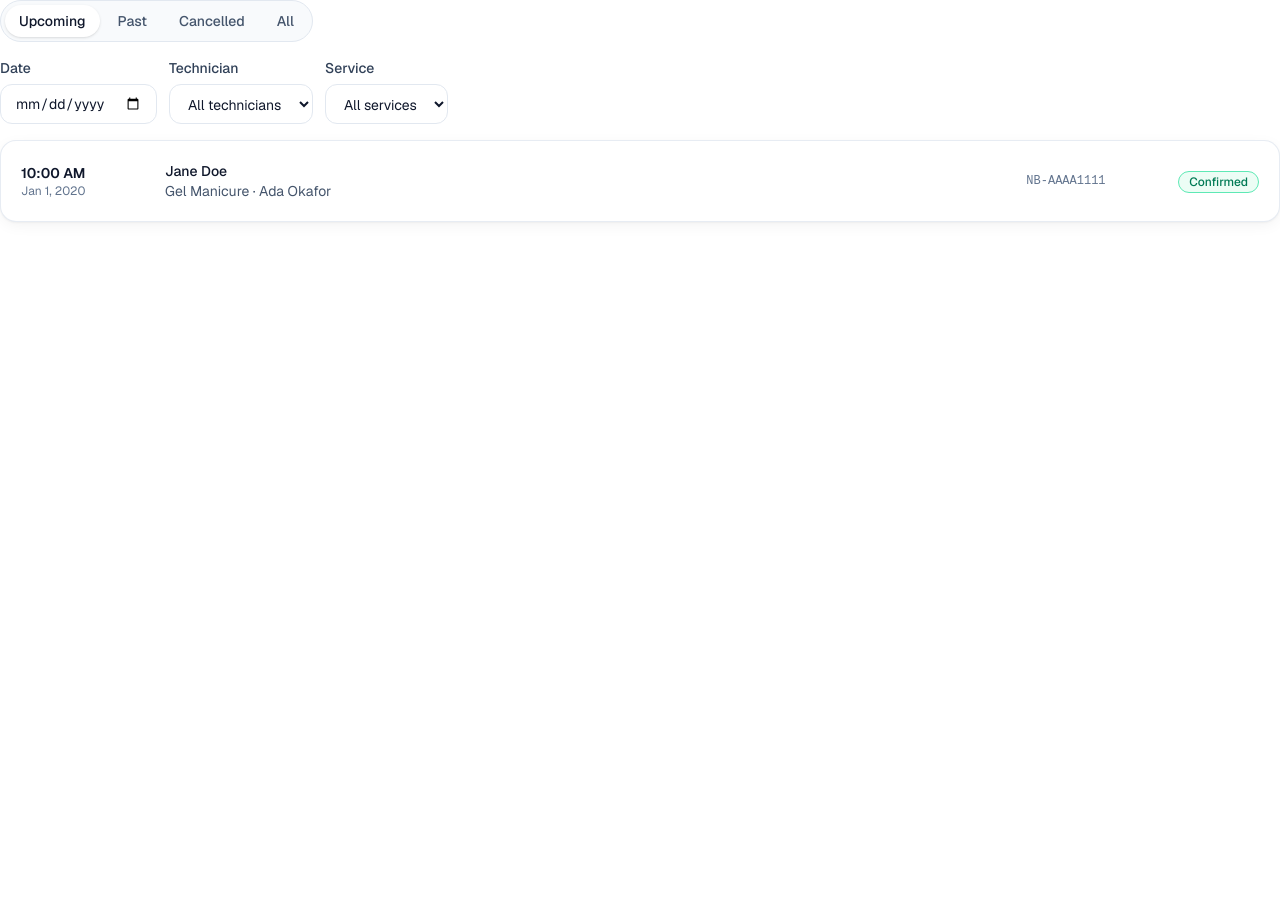
Test: S13-BE lifecycle — No-show › CONFIRMED → Mark no-show → confirm → NO_SHOW shown → actions removed
Expected: the text "Jane Doe" is shown, [165,162,227,180]
Click the button with aria-label "view booking details for jane doe": (53, 173) [21,161,1154,201]
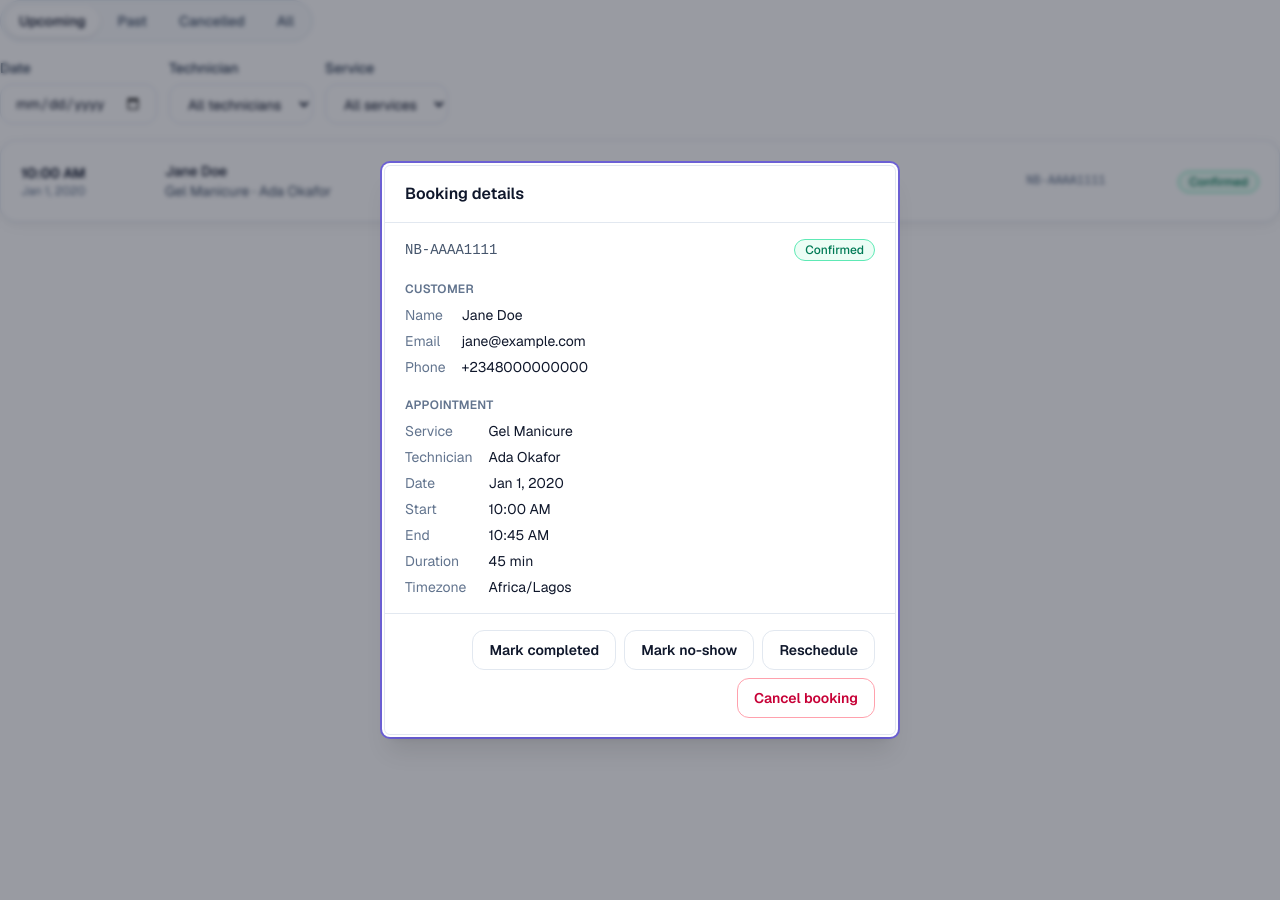
Click the button "Mark no-show": (689, 650) [624,630,754,670]
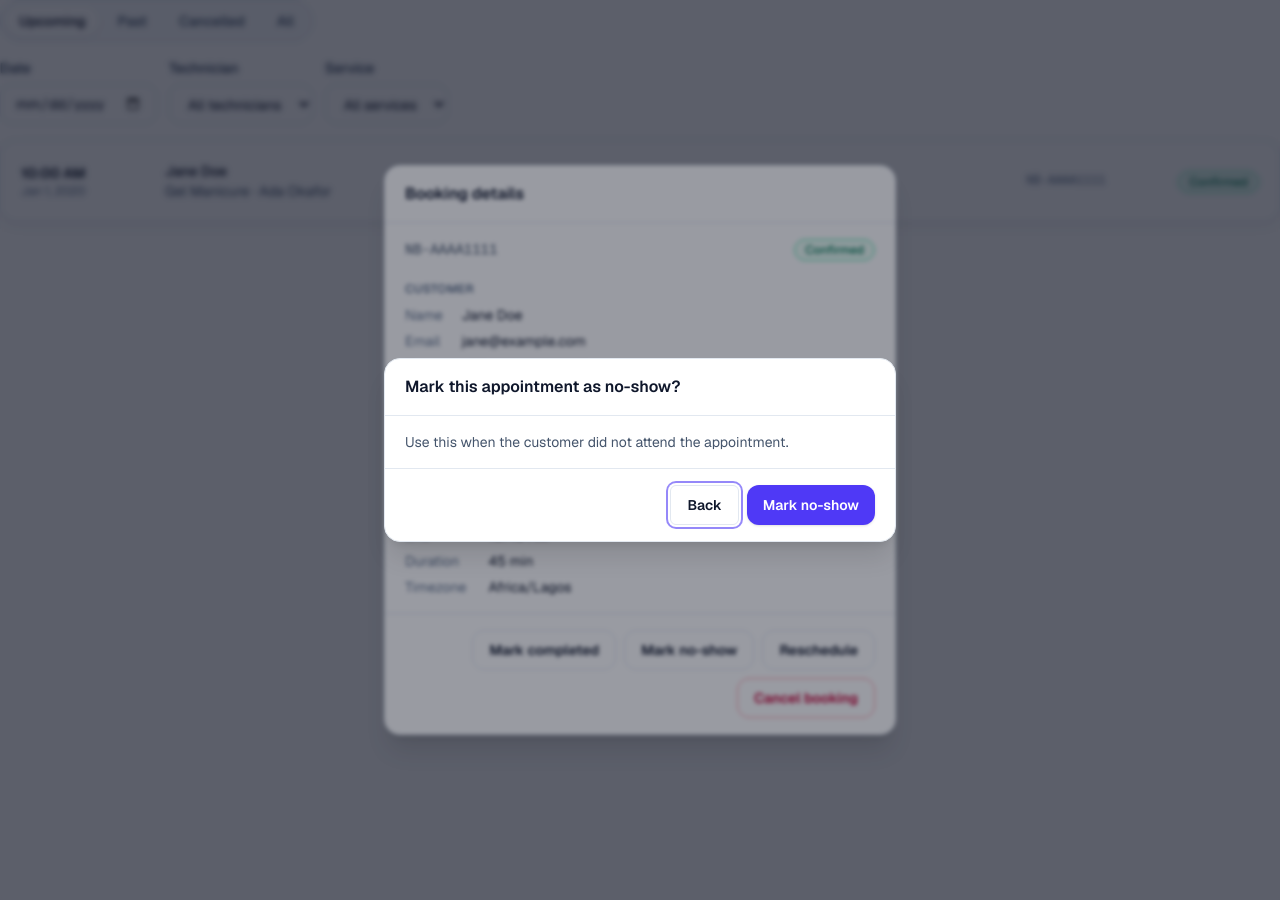
Click the button "Mark no-show": (811, 505) [747,485,875,525]
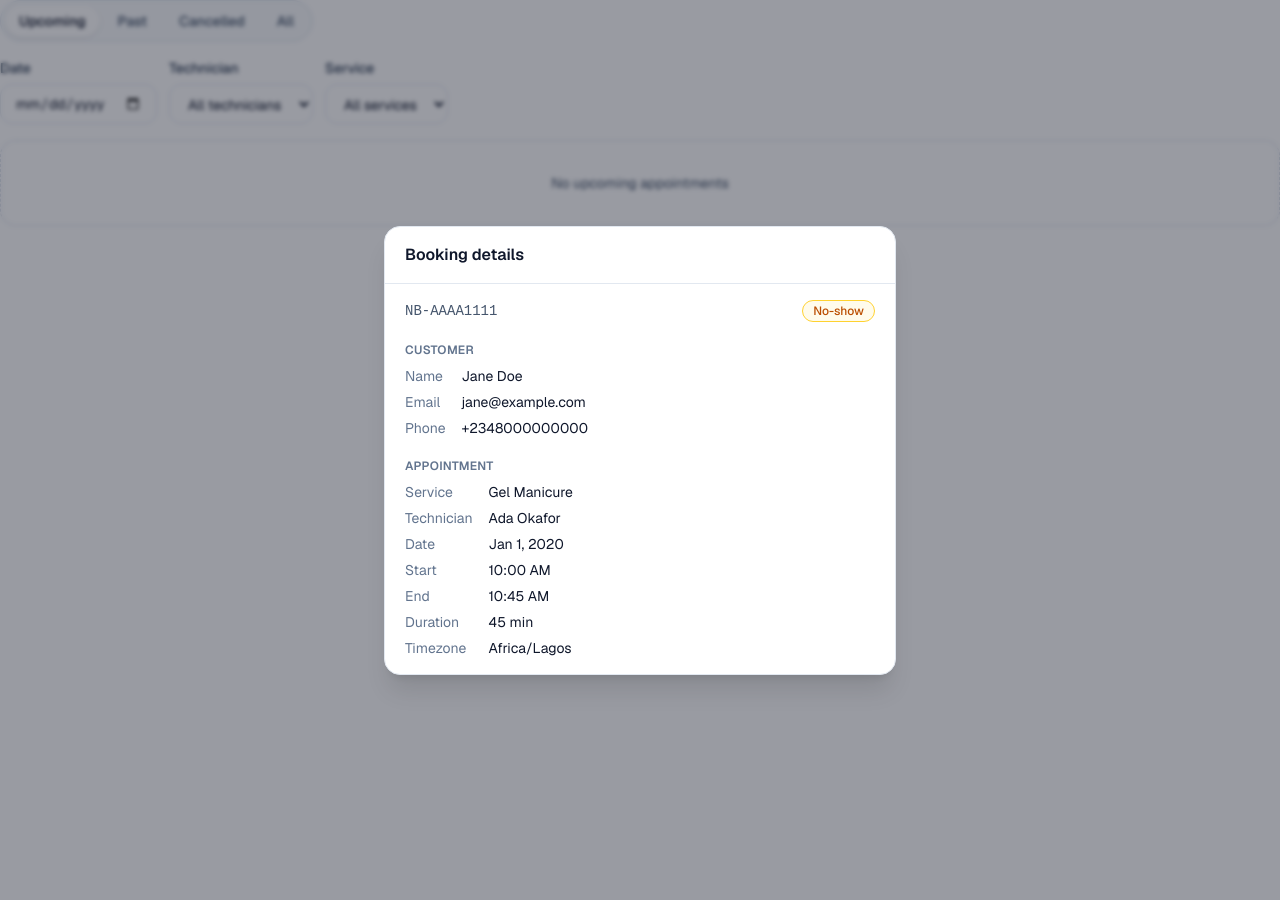
Result: the text "No-show" is shown at [802,300,875,322]
Result: the button "Mark completed" is gone
Result: the button "Mark no-show" is gone
